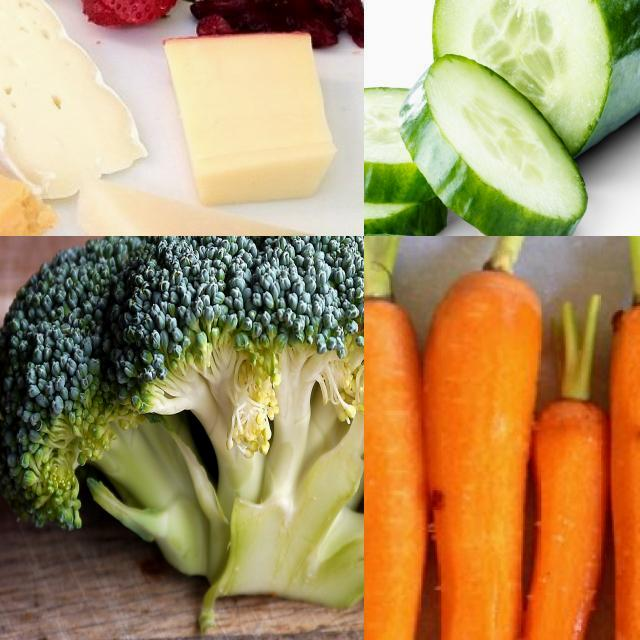carrot: (426, 274, 537, 640), (507, 395, 607, 640), (365, 302, 436, 640), (605, 304, 640, 640)
cucumber: (425, 1, 640, 158)
